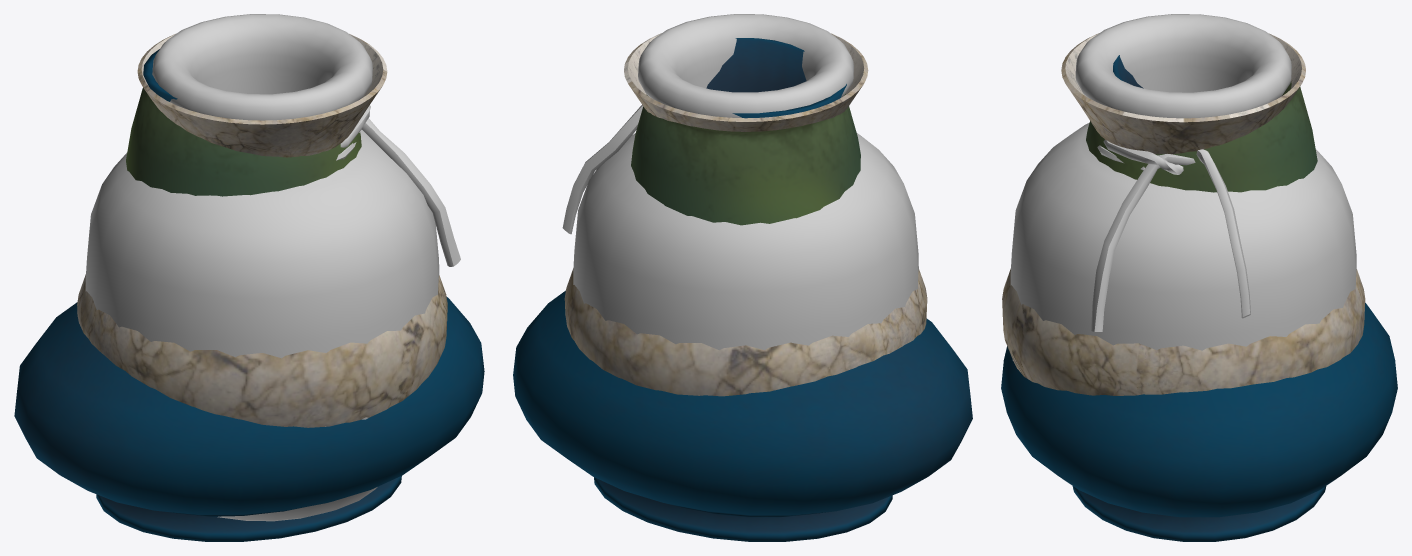
Rendered from vaseSet.dae.
3 renders of one model, left to right at view 1: azimuth 30°, elevation 25°; view 2: azimuth 150°, elevation 25°; view 3: azimuth 270°, elevation 25°, orthographic. The views are drawn at different scales.
Visible parts, largest first — view 1: Vase-4, Vase-3, Vase-5, Vase-2; view 2: Vase-3, Vase-4, Vase-5, Vase-2; view 3: Vase-4, Vase-3, Vase-5, Vase-2.
Boxes of the visible parts, bbox=[...] form: Vase-4: bbox=[85, 14, 460, 521]; Vase-3: bbox=[14, 49, 484, 541]; Vase-5: bbox=[77, 34, 447, 427]; Vase-2: bbox=[126, 87, 361, 196]; Vase-3: bbox=[513, 38, 972, 541]; Vase-4: bbox=[562, 14, 918, 350]; Vase-5: bbox=[564, 33, 927, 396]; Vase-2: bbox=[631, 94, 860, 225]; Vase-4: bbox=[1010, 14, 1356, 360]; Vase-3: bbox=[1001, 55, 1397, 541]; Vase-5: bbox=[1002, 33, 1365, 395]; Vase-2: bbox=[1086, 81, 1317, 192].
Size of the model in its own units: 0.4409 by 0.4373 by 0.3657.
